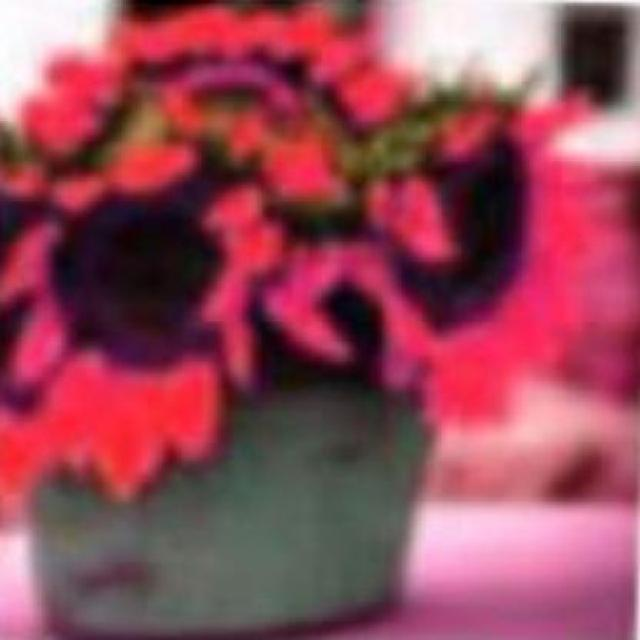sunflower: (6, 144, 284, 509), (362, 72, 625, 435)
